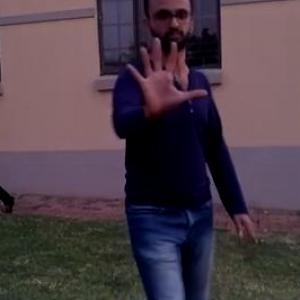follow_hand: (122, 30, 209, 118)
